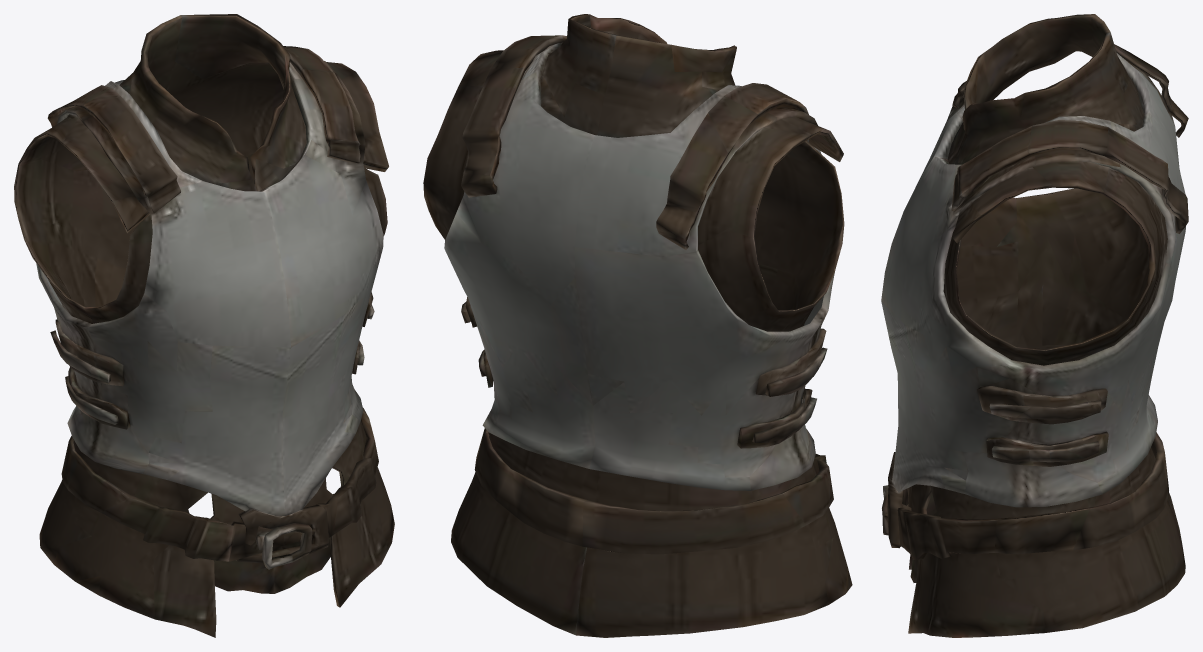
The model's file is plate_armor.glb.
3 renders of one model, left to right at view 1: azimuth 30°, elevation 25°; view 2: azimuth 150°, elevation 25°; view 3: azimuth 270°, elevation 25°, orthographic. The views are drawn at different scales.
Parts seen in each view (by area): view 1: plate_armor; view 2: plate_armor; view 3: plate_armor.
Boxes of the visible parts, x1,y1,x2,y2 form: plate_armor: (14,14,394,637); plate_armor: (423,14,852,637); plate_armor: (881,14,1188,637).
Bounding box in the file's own units: 0.375 × 0.6 × 0.2941.
1 material, 1 textured.
